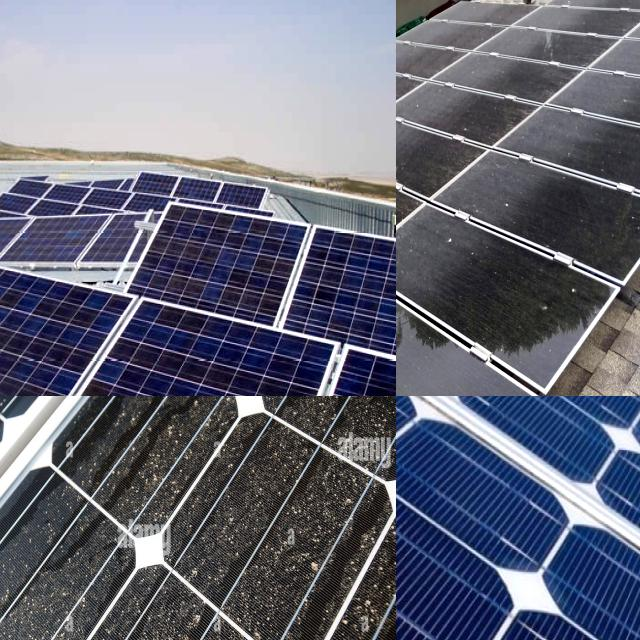crack: (396, 396, 640, 640), (36, 270, 370, 396), (136, 181, 316, 336), (0, 251, 143, 396)
dust: (471, 26, 640, 174), (401, 261, 550, 396), (208, 445, 324, 611), (100, 397, 204, 521), (396, 175, 459, 371), (0, 505, 77, 640), (309, 396, 396, 478), (396, 110, 474, 190), (422, 215, 551, 262), (396, 301, 452, 396), (396, 196, 424, 285), (611, 199, 640, 249)
